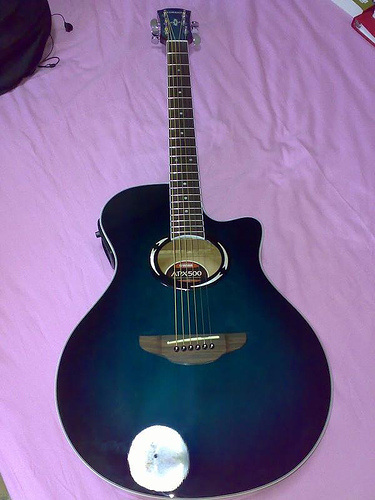guitar: (56, 6, 334, 498)
